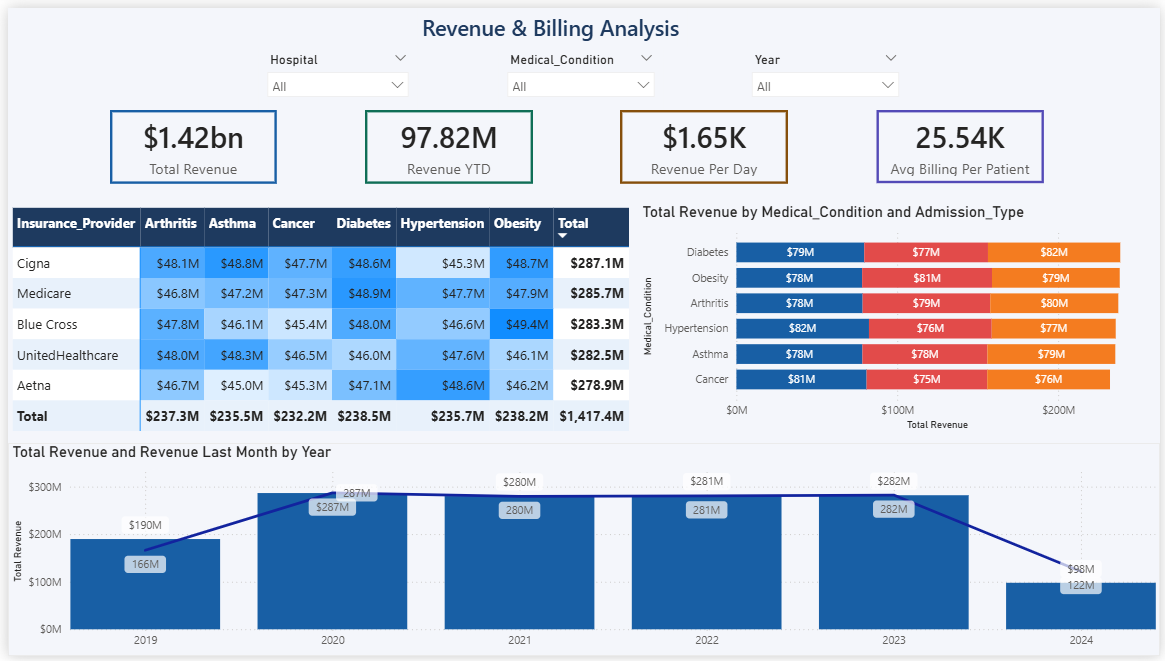

The page's visual inventory and layout, read from the dashboard file:
{"tool":"powerbi","page":{"name":"revenue_deep_dive","canvas":[1280,720],"ordinal":1},"visuals":[{"type":"card","fields":{"Values":["healthcare_dataset.Total Revenue"]},"box":[113.3,113.3,185,81.7],"z":0},{"type":"barChart","fields":{"Category":["healthcare_dataset.Medical_Condition"],"Y":["healthcare_dataset.Total Revenue"],"Series":["healthcare_dataset.Admission_Type"]},"box":[700,216.7,580,256.7],"z":1000},{"type":"pivotTable","fields":{"Rows":["healthcare_dataset.Insurance_Provider"],"Columns":["healthcare_dataset.Medical_Condition"],"Values":["healthcare_dataset.Total Revenue"]},"box":[0,216.7,700,266.7],"z":2000},{"type":"lineStackedColumnComboChart","fields":{"Y":["healthcare_dataset.Total Revenue"],"Y2":["healthcare_dataset.Revenue Last Month"],"Category":["DateTable.Year"]},"box":[0,483.3,1280,236.7],"z":3000},{"type":"slicer","fields":{"Values":["healthcare_dataset.Medical_Condition"]},"box":[544.2,43.3,183.3,70],"z":4000},{"type":"slicer","fields":{"Values":["healthcare_dataset.Hospital"]},"box":[278.3,43.3,176.7,70],"z":5000},{"type":"slicer","fields":{"Values":["DateTable.Year"]},"box":[816.7,43.3,183.3,70],"z":6000},{"type":"textbox","box":[455,0,300,43.3],"z":7000},{"type":"card","fields":{"Values":["healthcare_dataset.Revenue YTD"]},"box":[396.7,113.3,186.7,81.7],"z":8000},{"type":"card","fields":{"Values":["healthcare_dataset.Revenue Per Day"]},"box":[680,113.3,186.7,81.7],"z":9000},{"type":"card","fields":{"Values":["healthcare_dataset.Avg Billing Per Patient"]},"box":[964.6,113.4,185.7,81.4],"z":10000}]}

Visuals, with their boxes in screenshot pixels (x1, y1, x2, y2), scaled from the page's 1280x720 canvas onto the 1165x661 screenshot:
card - healthcare_dataset.Total Revenue: [103,104,271,179]
barChart - healthcare_dataset.Medical_Condition x healthcare_dataset.Total Revenue: [637,199,1164,435]
pivotTable - healthcare_dataset.Insurance_Provider x healthcare_dataset.Medical_Condition: [0,199,637,444]
lineStackedColumnComboChart - healthcare_dataset.Total Revenue x healthcare_dataset.Revenue Last Month: [0,444,1164,660]
slicer - healthcare_dataset.Medical_Condition: [495,40,662,104]
slicer - healthcare_dataset.Hospital: [253,40,414,104]
slicer - DateTable.Year: [743,40,910,104]
textbox: [414,0,687,40]
card - healthcare_dataset.Revenue YTD: [361,104,531,179]
card - healthcare_dataset.Revenue Per Day: [619,104,789,179]
card - healthcare_dataset.Avg Billing Per Patient: [878,104,1047,179]
